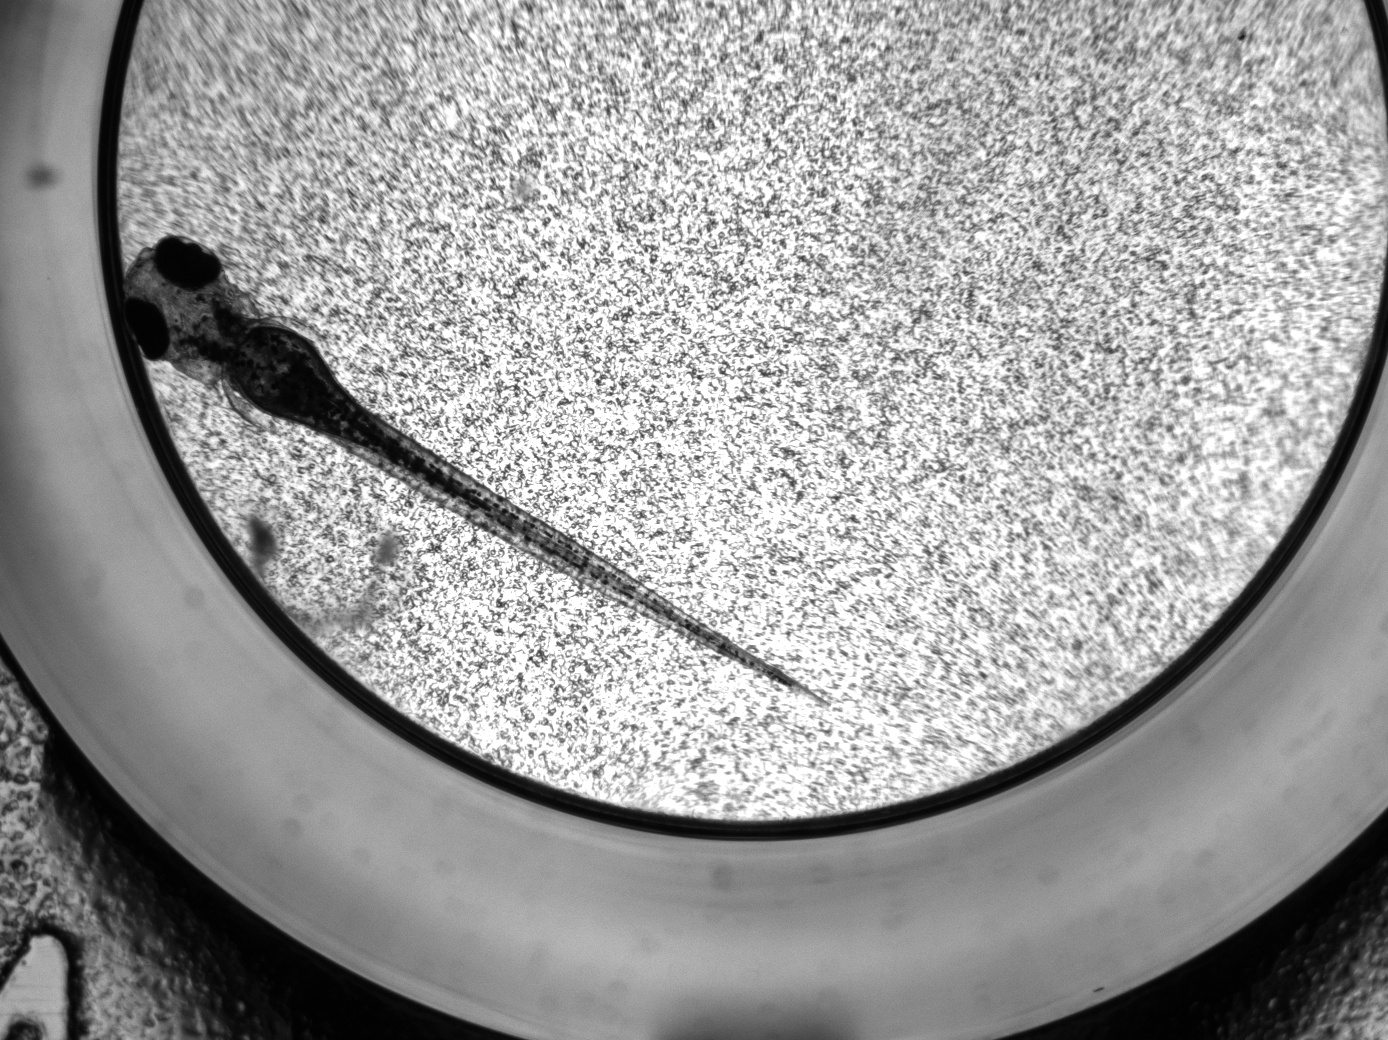embryo: (118, 235, 831, 711)
eye: (155, 236, 223, 292), (127, 297, 170, 361)
yolksac: (232, 322, 342, 425)
